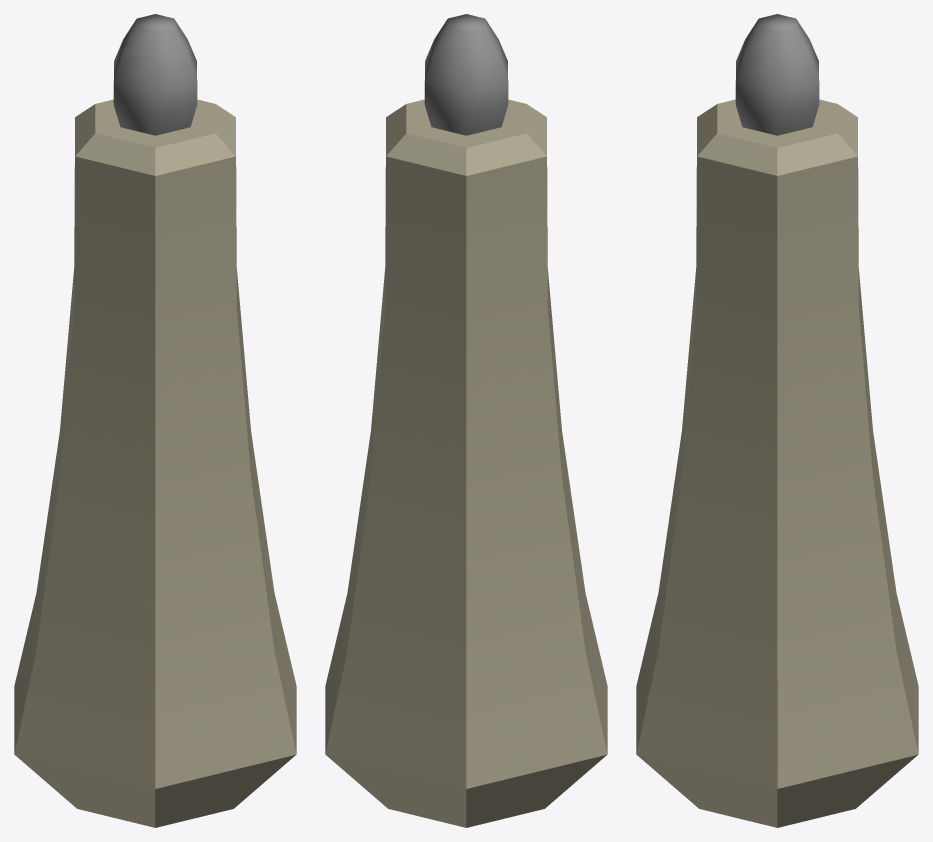
The model's file is PS_SaltShaker.fbx.
3 renders of one model, left to right at view 1: azimuth 30°, elevation 25°; view 2: azimuth 150°, elevation 25°; view 3: azimuth 270°, elevation 25°, orthographic.
Visible parts, largest first — view 1: PS_SaltShaker; view 2: PS_SaltShaker; view 3: PS_SaltShaker.
Boxes of the visible parts, bbox=[...] form: PS_SaltShaker: bbox=[14, 14, 296, 827]; PS_SaltShaker: bbox=[325, 14, 607, 827]; PS_SaltShaker: bbox=[636, 14, 918, 827].
Size of the model in its own units: 0.0816 by 0.2119 by 0.0707.
